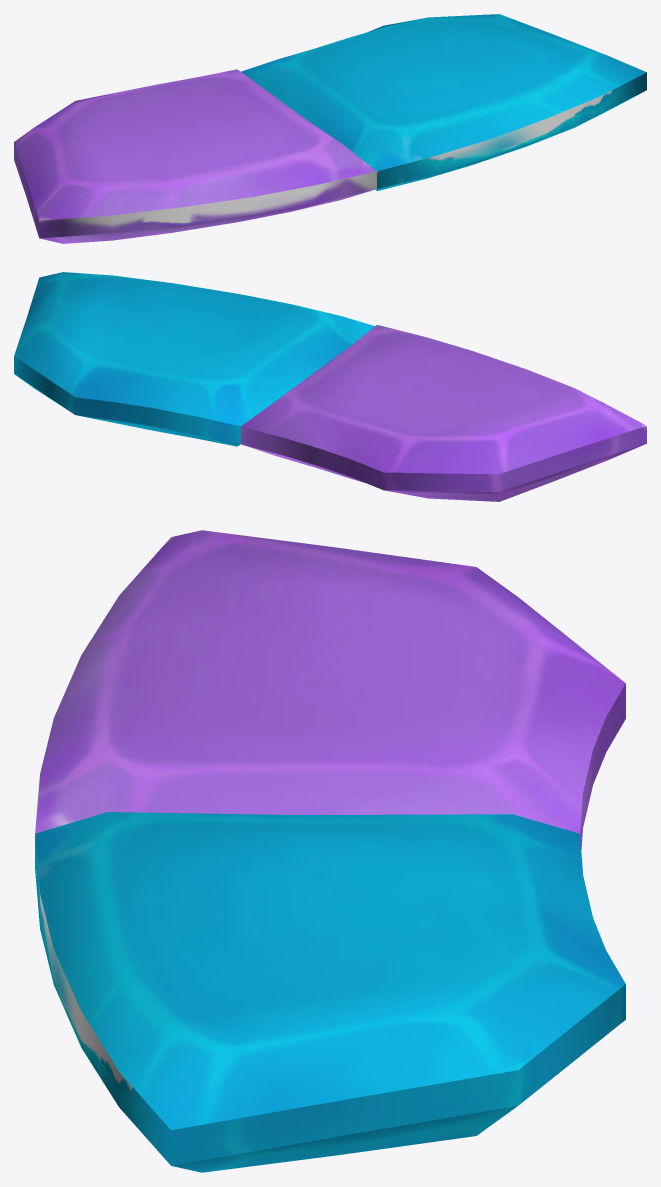
Rendered from MDL_TileBase 1.fbx.
3 views of the same model, one above another, from view 1: azimuth 30°, elevation 25°; view 2: azimuth 150°, elevation 25°; view 3: azimuth 270°, elevation 25° (orthographic). The views are drawn at different scales.
Parts seen in each view (by area): view 1: Right_Wing_Tile, Left_Wing_Tile; view 2: Right_Wing_Tile, Left_Wing_Tile; view 3: Left_Wing_Tile, Right_Wing_Tile.
Part boxes in pixels (x1,y1,x2,y2): Right_Wing_Tile: (14, 69, 376, 243); Left_Wing_Tile: (241, 14, 646, 190); Right_Wing_Tile: (241, 325, 646, 501); Left_Wing_Tile: (14, 272, 374, 446); Left_Wing_Tile: (35, 812, 625, 1172); Right_Wing_Tile: (35, 530, 625, 849).
Bounding box in the file's own units: 336 × 30.31 × 142.
